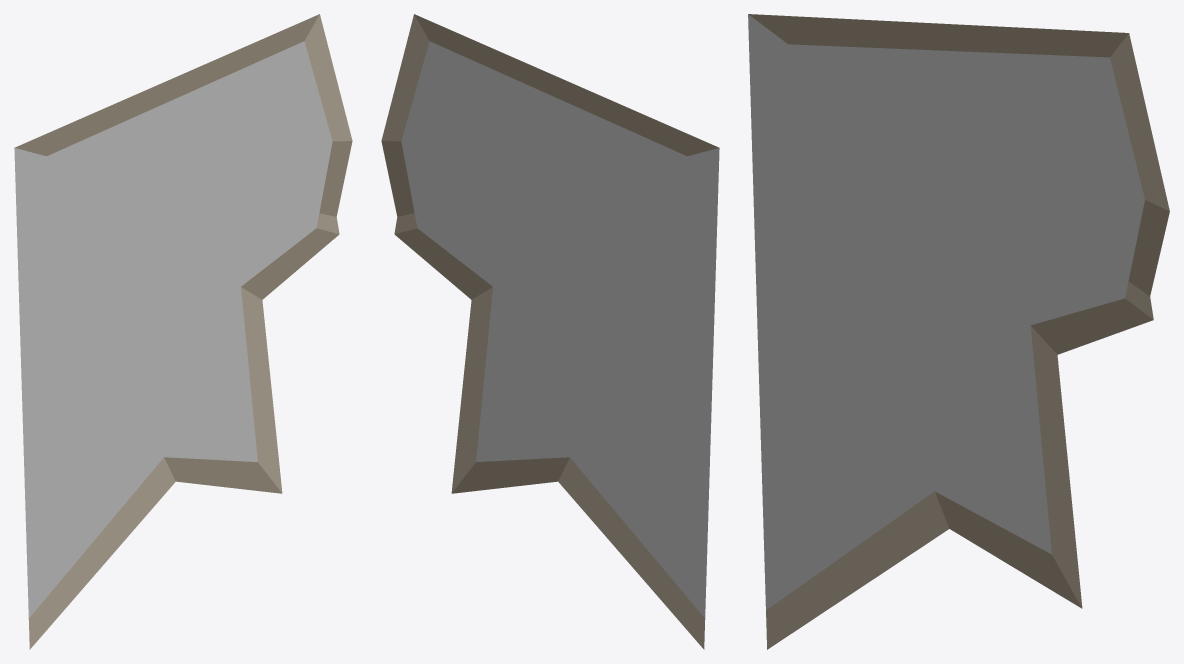
Rendered from ShellRiddlesPuzzlePieceC.glb.
The picture shows the model from 3 angles, left to right: view 1: azimuth 30°, elevation 25°; view 2: azimuth 150°, elevation 25°; view 3: azimuth 330°, elevation 25°; orthographic projection. The views are drawn at different scales.
Visible parts, largest first — view 1: ShellRiddlesPuzzlePieceC; view 2: ShellRiddlesPuzzlePieceC; view 3: ShellRiddlesPuzzlePieceC.
Part boxes in pixels (x1,y1,x2,y2): ShellRiddlesPuzzlePieceC: (14, 14, 352, 649); ShellRiddlesPuzzlePieceC: (381, 14, 719, 649); ShellRiddlesPuzzlePieceC: (748, 14, 1169, 649).
Bounding box in the file's own units: 0.3681 × 0.588 × 0.
